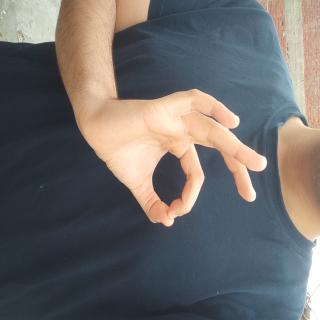Space: (64, 62, 171, 320)
